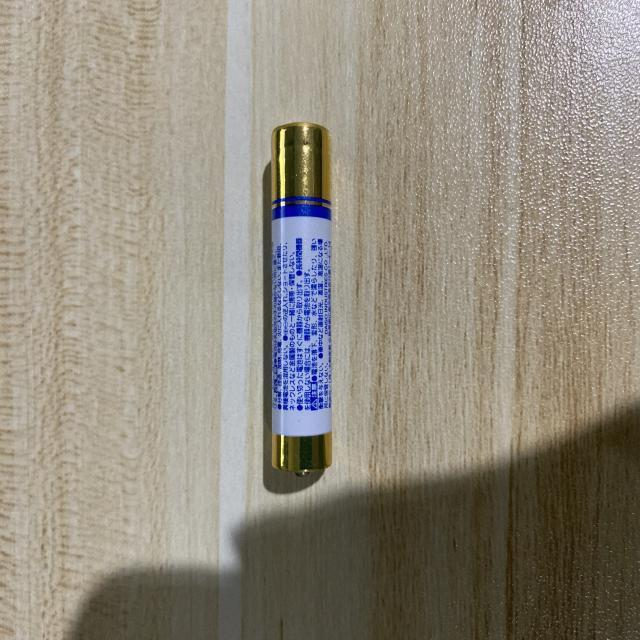AAA: (274, 124, 334, 477)
